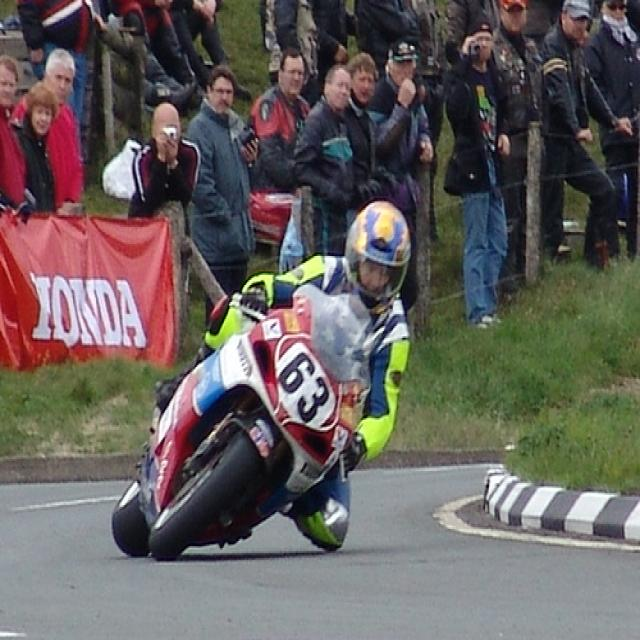motorcycle: (115, 282, 391, 562)
